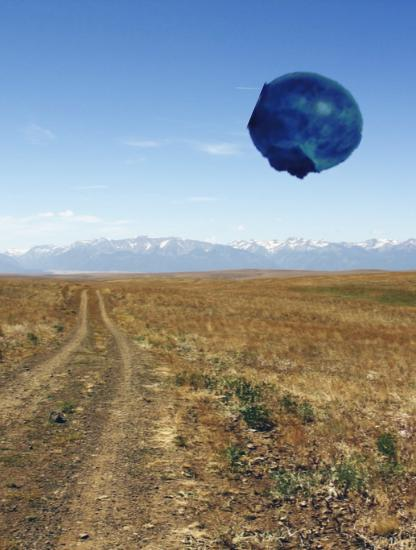Huckleberry: (252, 71, 363, 182)
